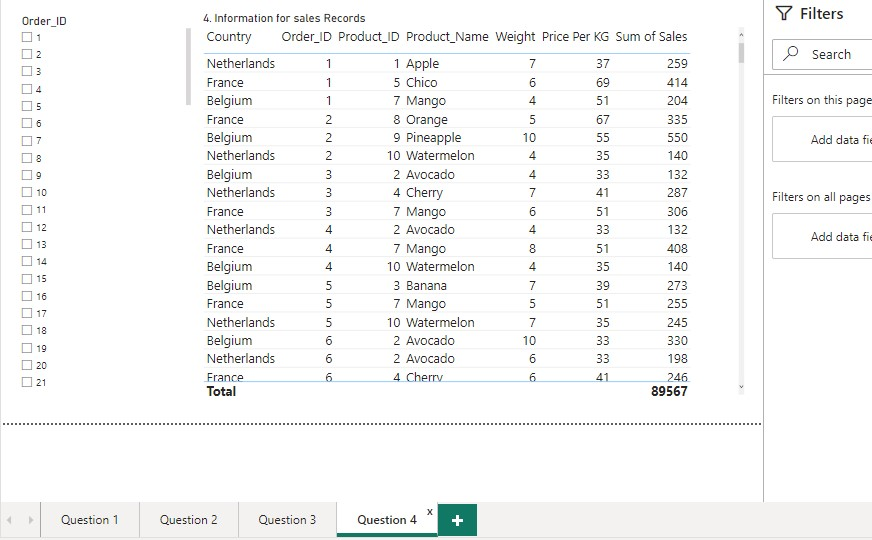

The page's visual inventory and layout, read from the dashboard file:
{"tool":"powerbi","page":{"name":"Question 4","canvas":[1280,720],"ordinal":3},"visuals":[{"type":"slicer","fields":{"Values":["CountryCombined.order_id"]},"box":[21.8,28.6,302.4,646.7],"z":0},{"type":"tableEx","title":"4. Information for sales Records","fields":{"Values":["CountryCombined.Country","CountryCombined.order_id","Sum(CountryCombined.product_id)","CountryCombined.product_name","CountryCombined.weight_kg","CountryCombined.price_per_kg","Sum(CountryCombined.Sales)"]},"box":[334.3,28.6,918.8,658.5],"z":1}]}

Visuals, with their boxes on the page's 1280x720 design canvas (x1, y1, x2, y2). These are canvas units, not pixel positions in the 872x540 screenshot, which may show the page scaled, cropped or inside an application window:
slicer - CountryCombined.order_id: [x1=22, y1=29, x2=324, y2=675]
"4. Information for sales Records" tableEx: [x1=334, y1=29, x2=1253, y2=687]
